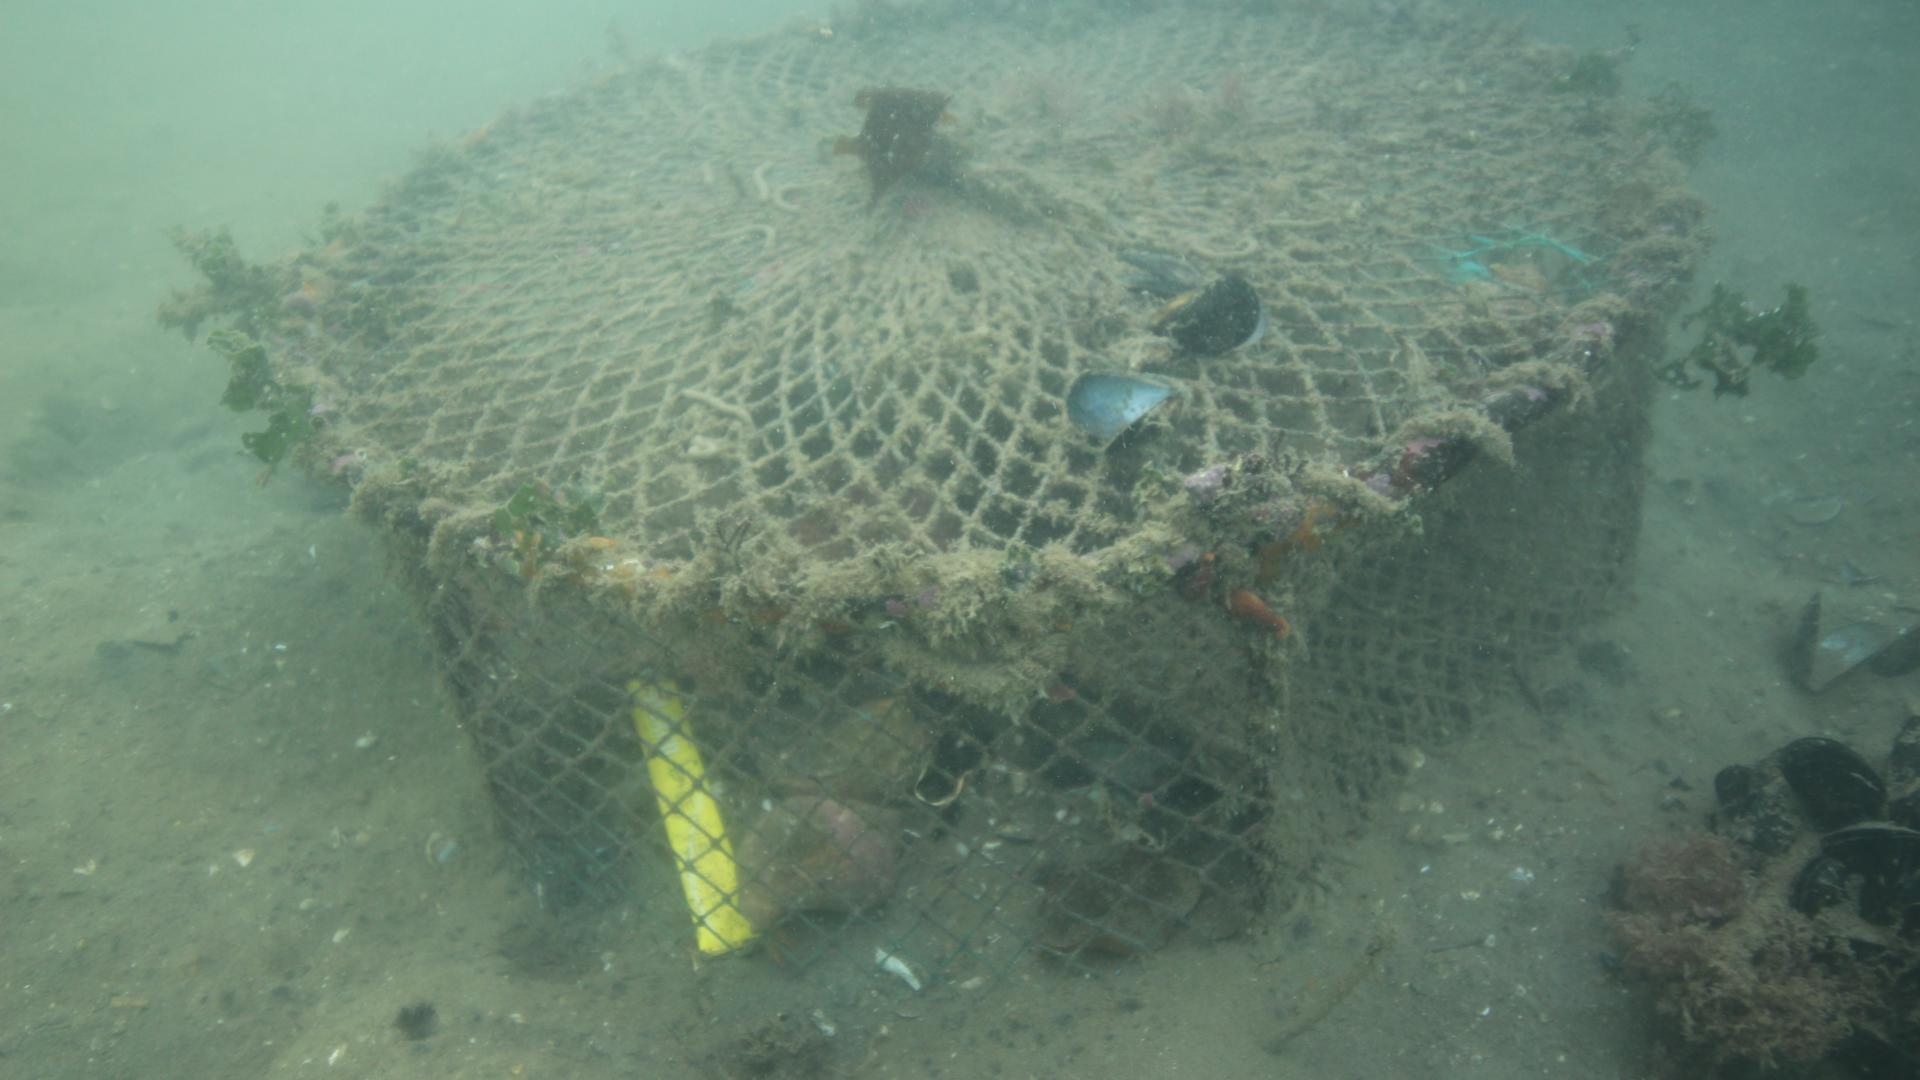circular fish trap: (270, 0, 1695, 996)
